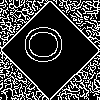O: (25, 25, 71, 64)
